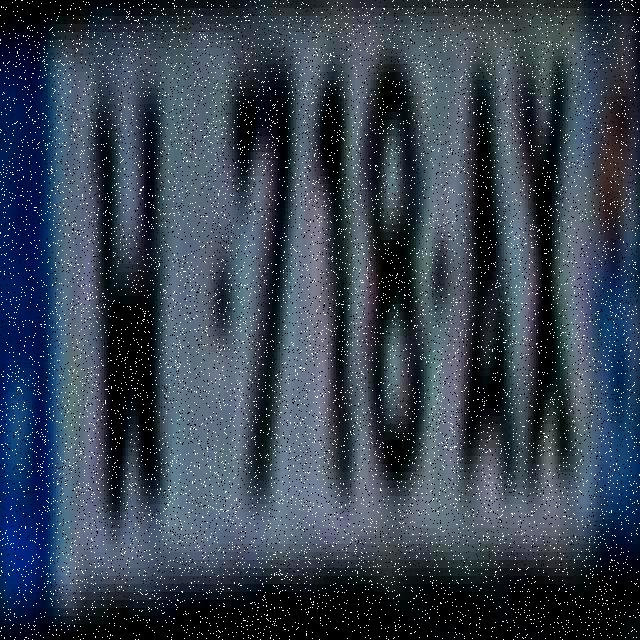licenseplate: (0, 1, 600, 601)
